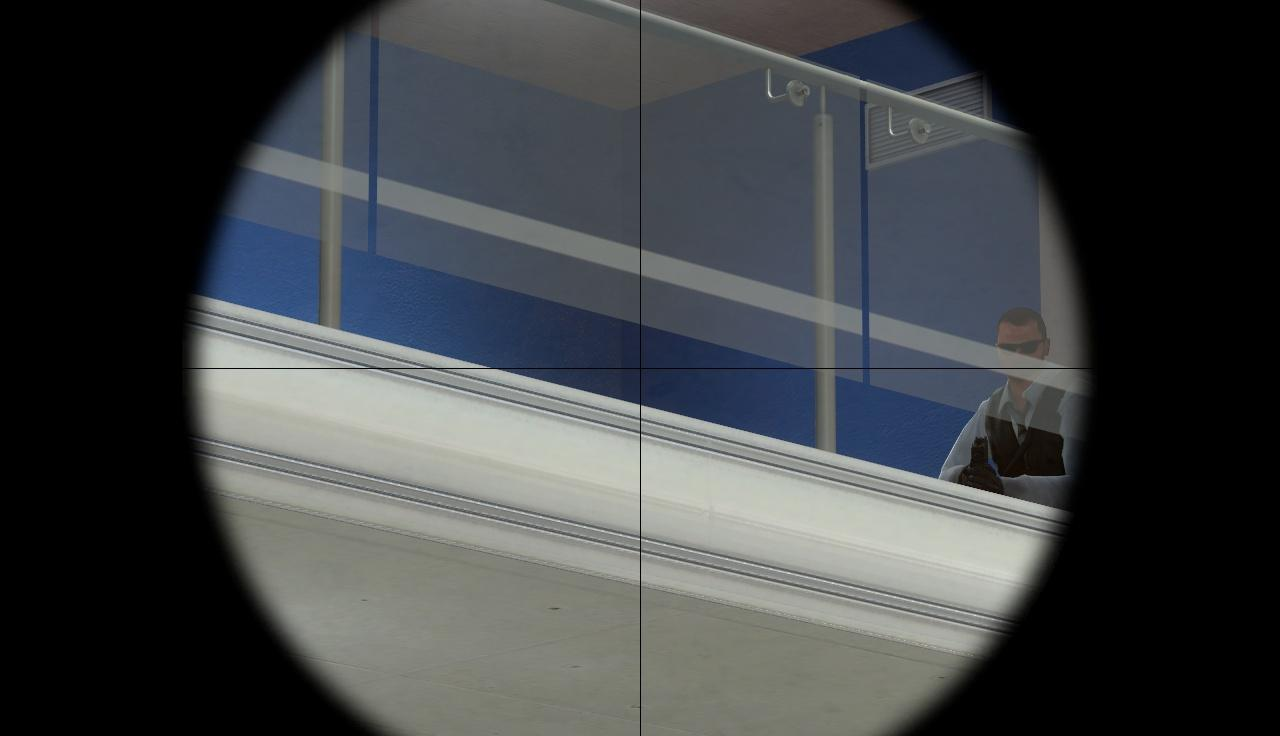tt: (942, 305, 1084, 493)
tthead: (995, 308, 1048, 384)
